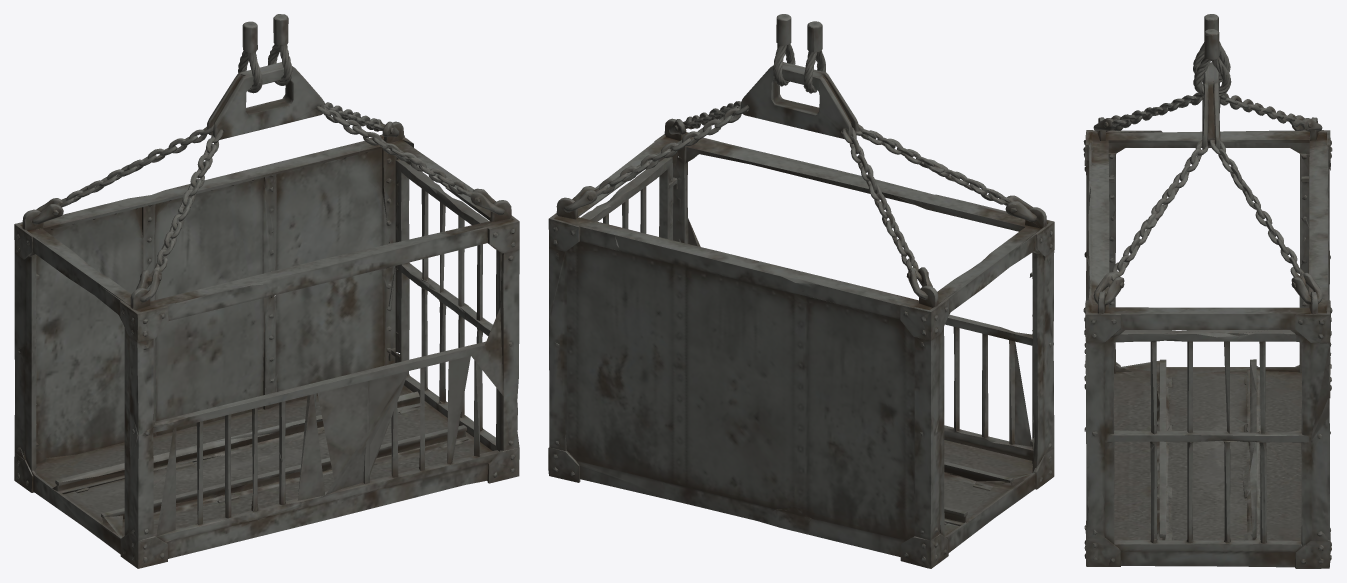
The model's file is shaft_cage_foerderkorb.glb.
The picture shows the model from 3 angles, left to right: view 1: azimuth 30°, elevation 25°; view 2: azimuth 150°, elevation 25°; view 3: azimuth 270°, elevation 25°; orthographic projection.
Visible parts, largest first — view 1: main; view 2: main; view 3: main.
Part boxes in pixels (<box>): main: <box>14,14,519,568</box>; main: <box>548,14,1054,568</box>; main: <box>1083,14,1332,568</box>.
Bounding box in the file's own units: 4.54 × 5.16 × 2.57.
1 material, 1 textured.
